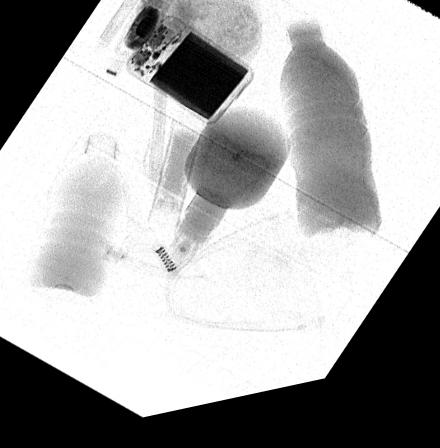Powerbank: (128, 20, 254, 133)
